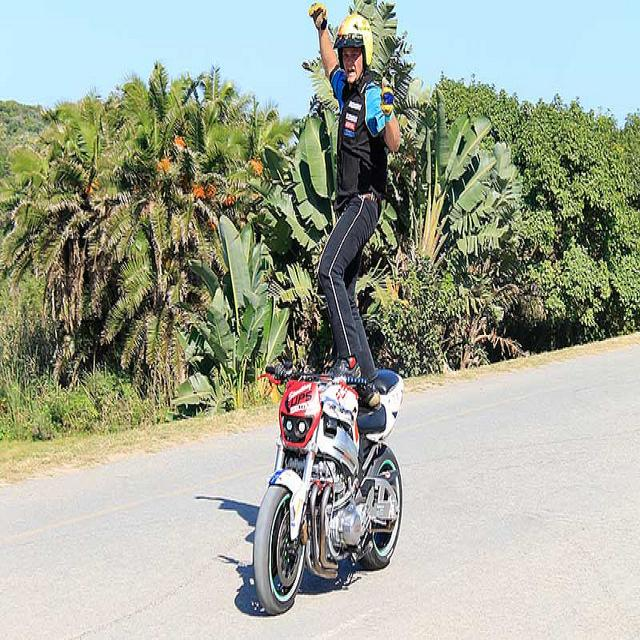motor: (254, 357, 405, 617)
